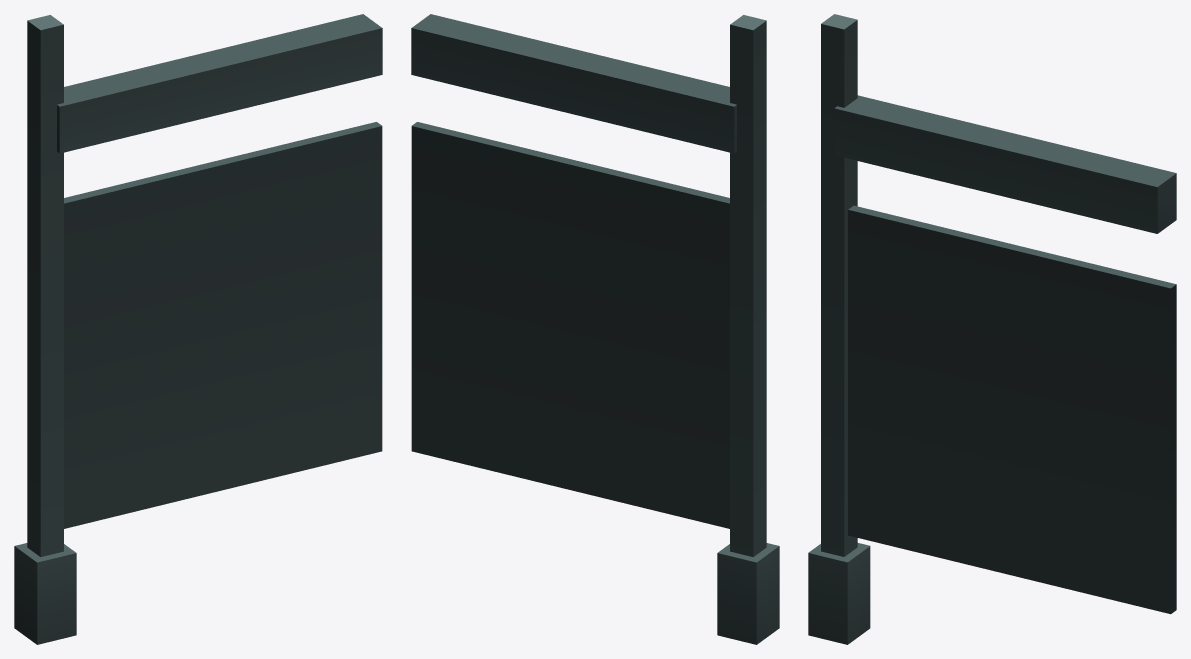
Rendered from Metal_Fence_2A.fbx.
The picture shows the model from 3 angles, left to right: view 1: azimuth 30°, elevation 25°; view 2: azimuth 150°, elevation 25°; view 3: azimuth 330°, elevation 25°; orthographic projection.
Parts seen in each view (by area): view 1: Metal_Fence_2A; view 2: Metal_Fence_2A; view 3: Metal_Fence_2A.
Boxes of the visible parts, box(x1,y1,x2,y2) form: Metal_Fence_2A: box(14, 14, 382, 644); Metal_Fence_2A: box(411, 14, 779, 644); Metal_Fence_2A: box(808, 14, 1176, 644).
Size of the model in its own units: 213 by 350 by 23.67.
